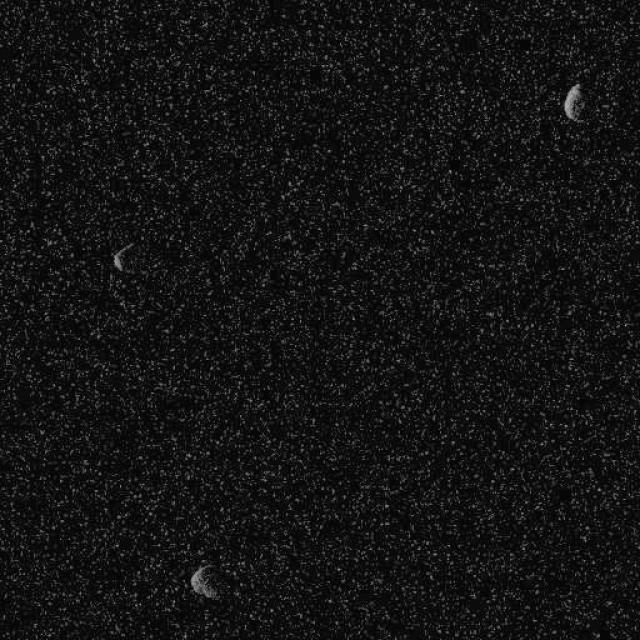D2: (189, 564, 221, 598), (562, 81, 588, 122), (111, 240, 135, 274)
